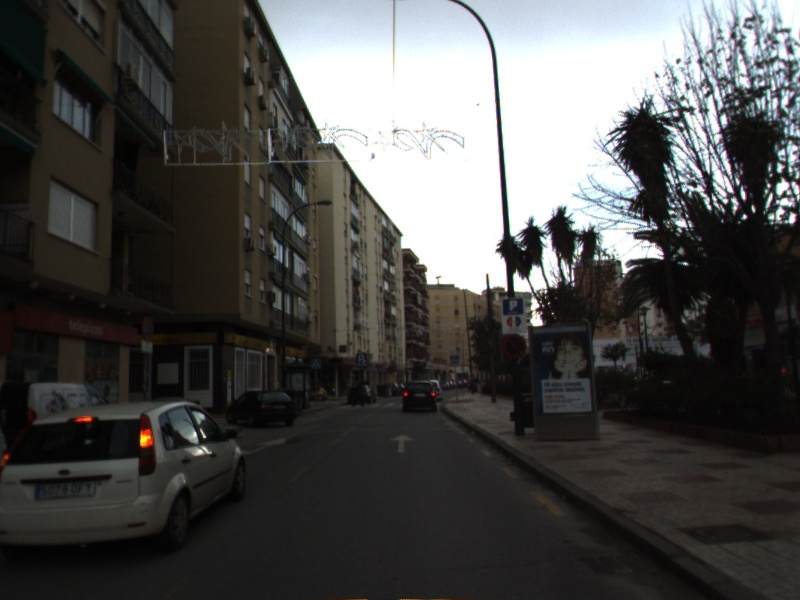STRAIGHT: (244, 435, 287, 457), (387, 432, 417, 455)
